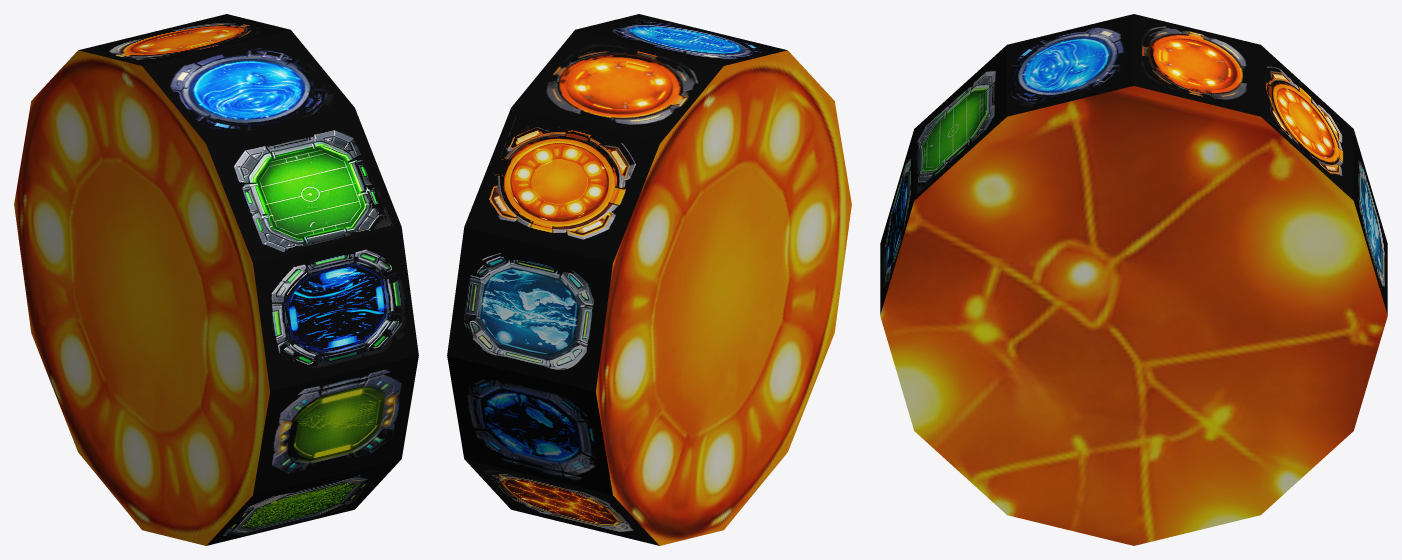
File: reel.obj
3 renders of one model, left to right at view 1: azimuth 30°, elevation 25°; view 2: azimuth 150°, elevation 25°; view 3: azimuth 270°, elevation 25°, orthographic.
Parts seen in each view (by area): view 1: Cylinder; view 2: Cylinder; view 3: Cylinder.
Boxes of the visible parts, x1,y1,x2,y2 form: Cylinder: (14,14,418,545); Cylinder: (447,14,851,545); Cylinder: (880,14,1387,545).
Bounding box in the file's own units: 0.6707 × 2 × 2.
